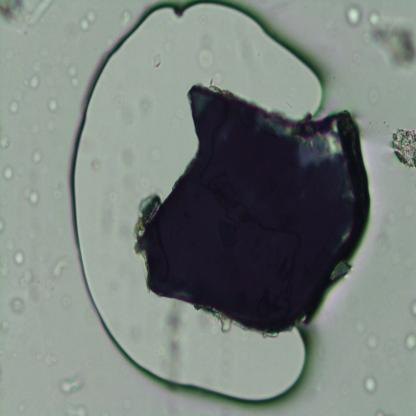Air bubble: (47, 1, 323, 403)
Background material: (344, 1, 416, 77), (158, 306, 188, 378), (0, 0, 52, 32), (391, 128, 416, 171), (57, 372, 83, 396), (52, 255, 71, 278), (17, 268, 35, 291), (8, 296, 27, 316), (198, 49, 214, 71), (80, 12, 96, 31), (23, 186, 39, 204), (66, 403, 88, 416), (403, 331, 416, 352), (365, 334, 379, 352), (70, 65, 80, 89), (8, 97, 21, 115), (0, 253, 9, 278), (362, 376, 376, 392), (47, 97, 60, 114), (121, 10, 133, 28), (0, 135, 12, 151), (28, 287, 40, 303), (31, 150, 44, 164), (59, 294, 73, 307), (2, 167, 15, 180), (14, 251, 26, 265), (29, 75, 39, 91), (154, 52, 162, 70), (409, 300, 416, 318), (0, 219, 5, 234)
Fragment: (132, 85, 370, 340)
